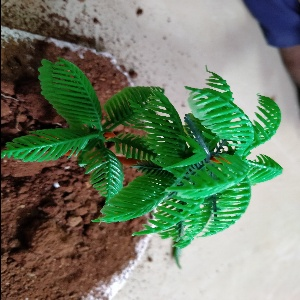plant: (7, 57, 285, 254)
